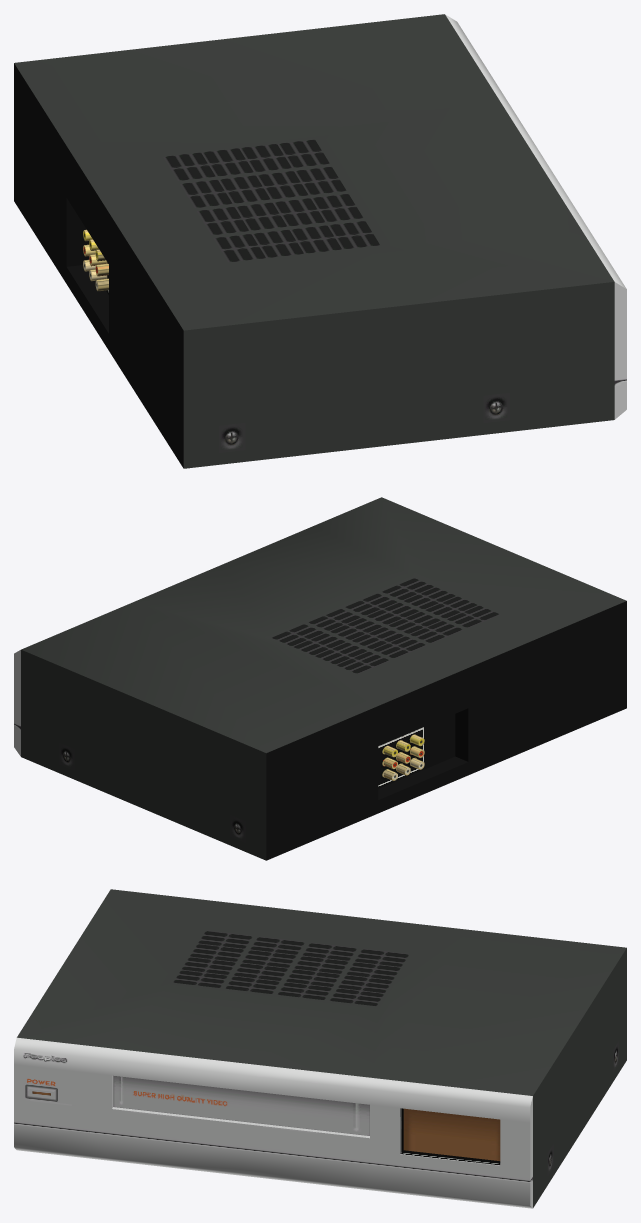
The picture shows the model from 3 angles, top to bottom: view 1: azimuth 30°, elevation 25°; view 2: azimuth 150°, elevation 25°; view 3: azimuth 270°, elevation 25°; orthographic projection. The views are drawn at different scales.
Parts seen in each view (by area): view 1: Joint_0_Object_0, Joint_0_Object_1; view 2: Joint_0_Object_0, Joint_0_Object_1; view 3: Joint_0_Object_0, Joint_0_Object_1, Joint_0_Object_2.
Boxes of the visible parts, x1=… form: Joint_0_Object_0: x1=14, y1=14, x2=614, y2=468; Joint_0_Object_1: x1=445, y1=14, x2=626, y2=419; Joint_0_Object_0: x1=21, y1=497, x2=626, y2=860; Joint_0_Object_1: x1=14, y1=650, x2=20, y2=756; Joint_0_Object_0: x1=17, y1=889, x2=626, y2=1207; Joint_0_Object_1: x1=14, y1=1037, x2=532, y2=1208; Joint_0_Object_2: x1=400, y1=1108, x2=500, y2=1165.
Size of the model in its own units: 804 by 225 by 986.
3 materials, 3 textured.
